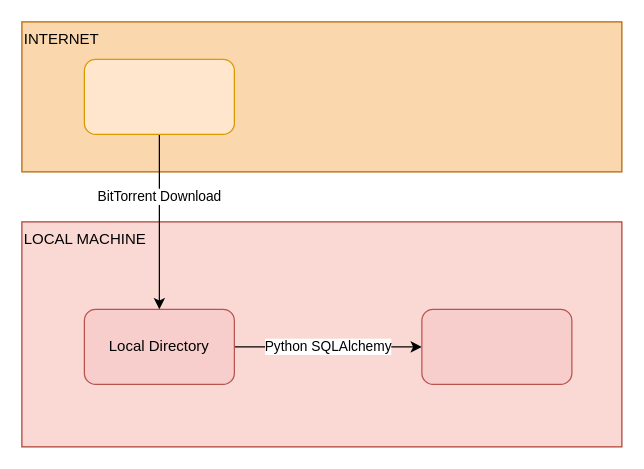
This 644x469 diagram has some shape labels left out. Each missing label, with the centre of its shape:
"Academic Torrents" belongs at pixel 158 96.
"MySQL Database" belongs at pixel 496 346.
